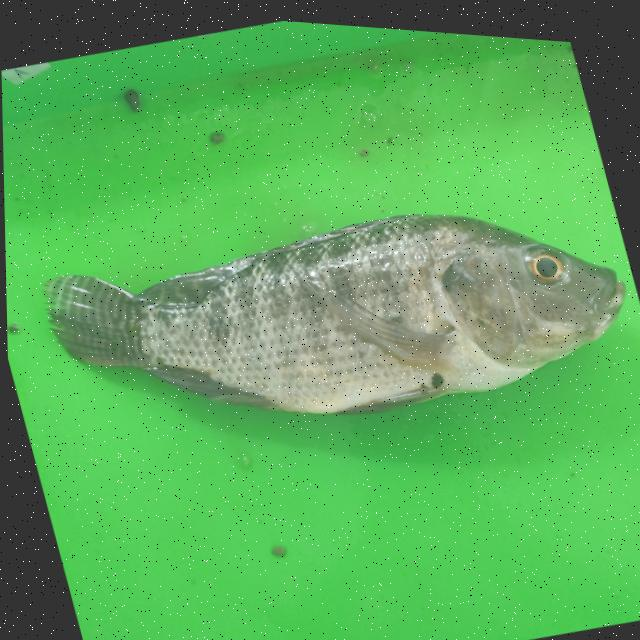Fresh: (226, 164, 557, 448), (513, 220, 577, 293)
